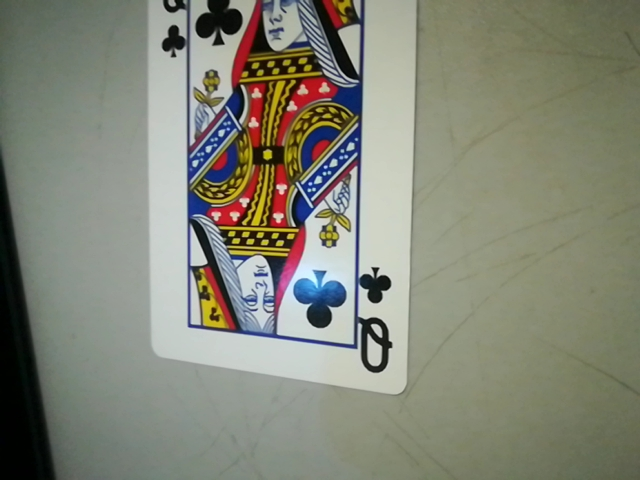mh q: (350, 262, 403, 384)
